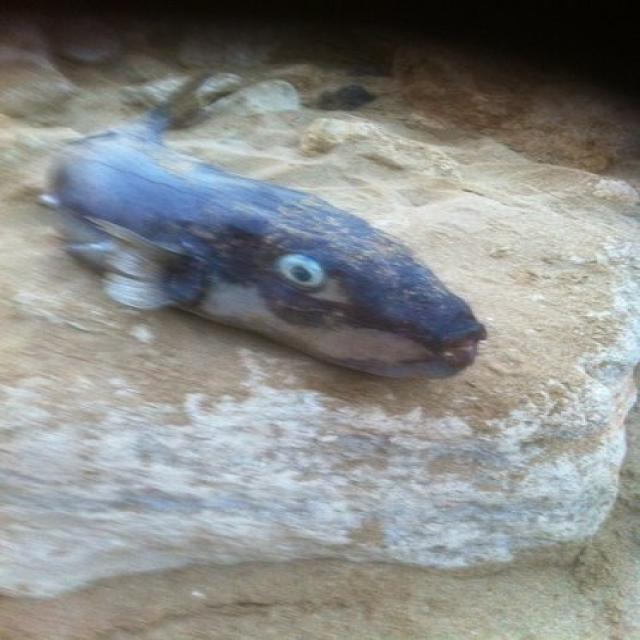Balik: (45, 107, 485, 377)
